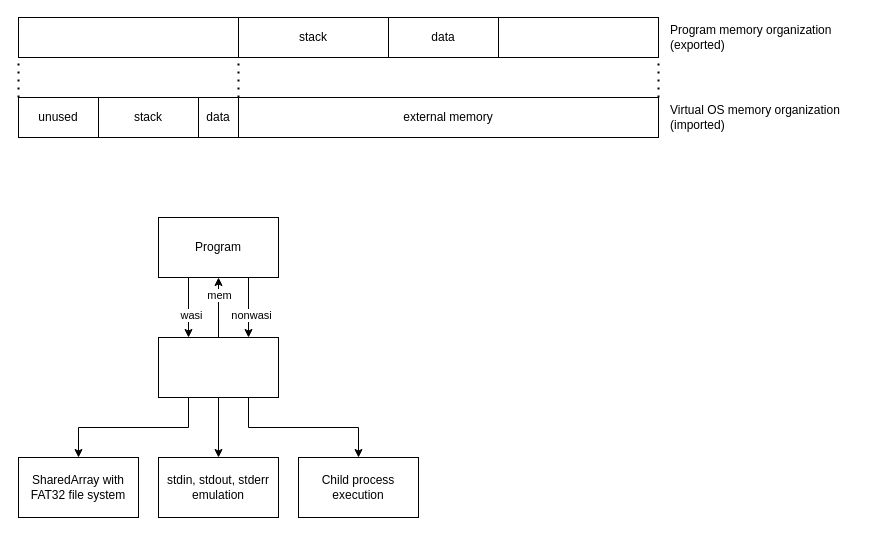
Image size: 875x535. Some labels were removed from this diagram. The shapes that lost their labels are listed below. From the top down, each one's centre as x and y in pixels, then its label:
the point at 128,37: scratchpad
the point at 578,37: heap
the point at 218,367: Virtual OS
